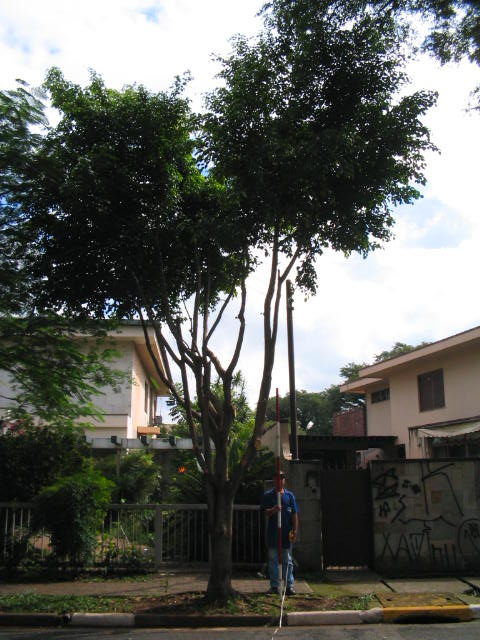crown: (34, 3, 441, 337)
stem: (188, 476, 253, 605)
stick: (267, 388, 291, 594)
tree: (31, 1, 445, 607)
